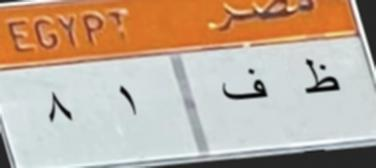1: (113, 80, 142, 122)
8: (43, 88, 74, 130)
Thaa: (301, 51, 344, 102)
faa: (219, 63, 270, 111)
